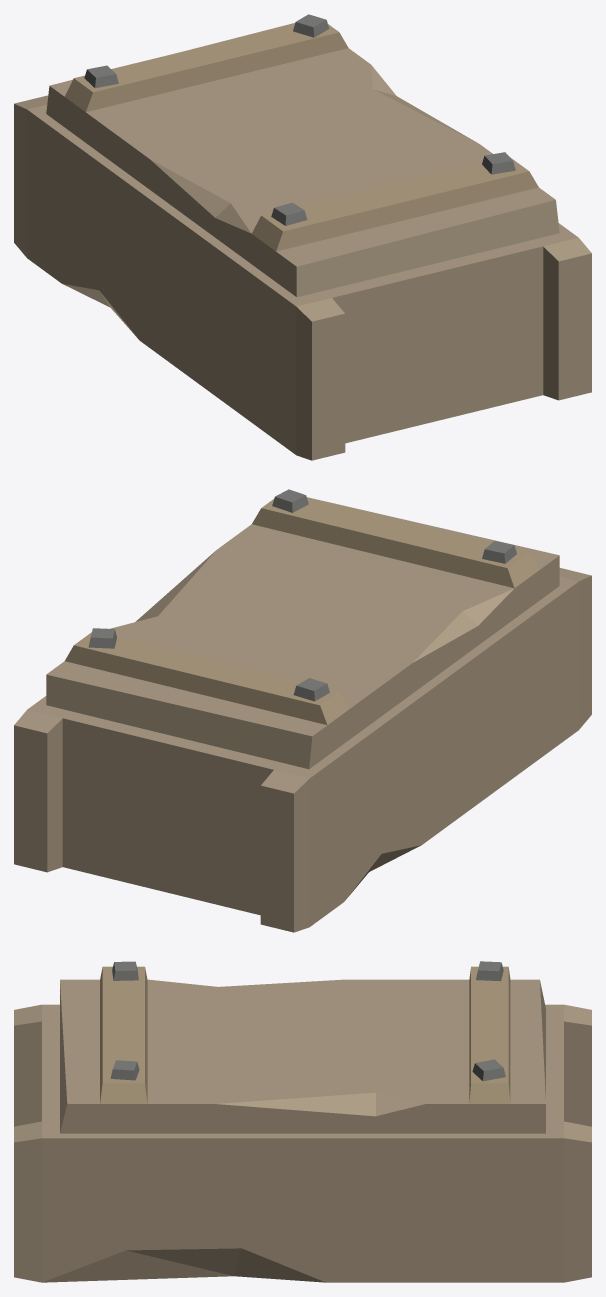
The model's file is apoc_SM_Prop_Crate_04.gltf.
The picture shows the model from 3 angles, top to bottom: view 1: azimuth 30°, elevation 25°; view 2: azimuth 150°, elevation 25°; view 3: azimuth 270°, elevation 25°; orthographic projection. The views are drawn at different scales.
Visible parts, largest first — view 1: SM_Prop_Crate_04; view 2: SM_Prop_Crate_04; view 3: SM_Prop_Crate_04.
Boxes of the visible parts, x1,y1,x2,y2 form: SM_Prop_Crate_04: (14,14,591,460); SM_Prop_Crate_04: (14,489,591,932); SM_Prop_Crate_04: (14,961,591,1282).
Bounding box in the file's own units: 0.4399 × 0.3065 × 0.8036.
1 material, 1 textured.
